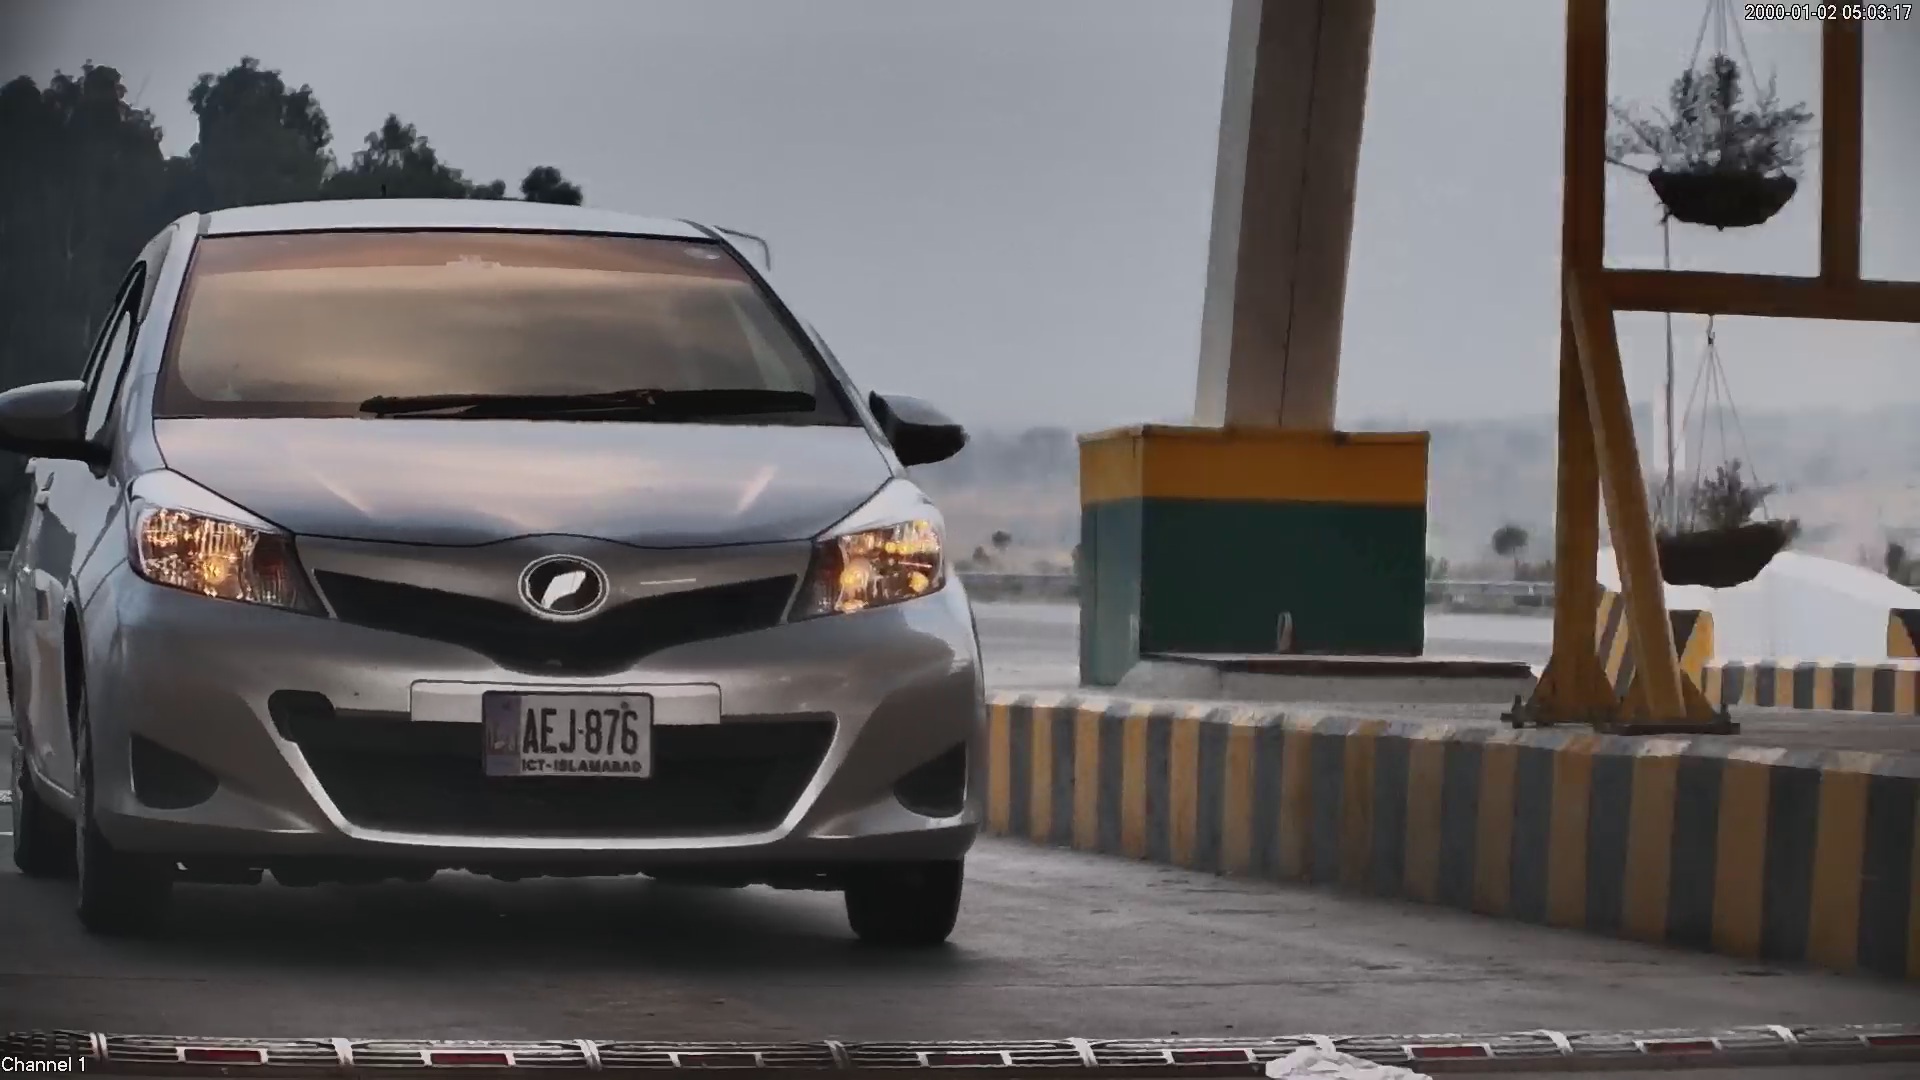Number_Plate: (475, 681, 663, 788)
